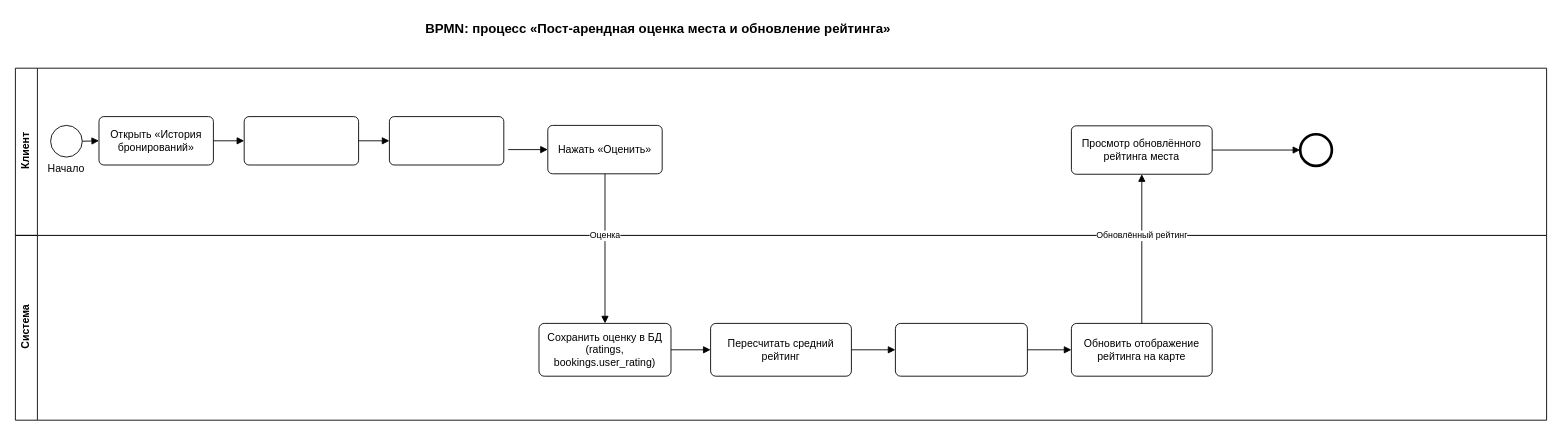
This 1562x436 diagram has some shape labels left out. Here are the shapes that lost their labels. From the top down, the centre of each, then its label:
(301,140): Выбрать завершённое бронирование
(446,140): Установить оценку (1–5)
(1315,149): Оценка сохранена
(961,349): Обновить rating и rating_count места
